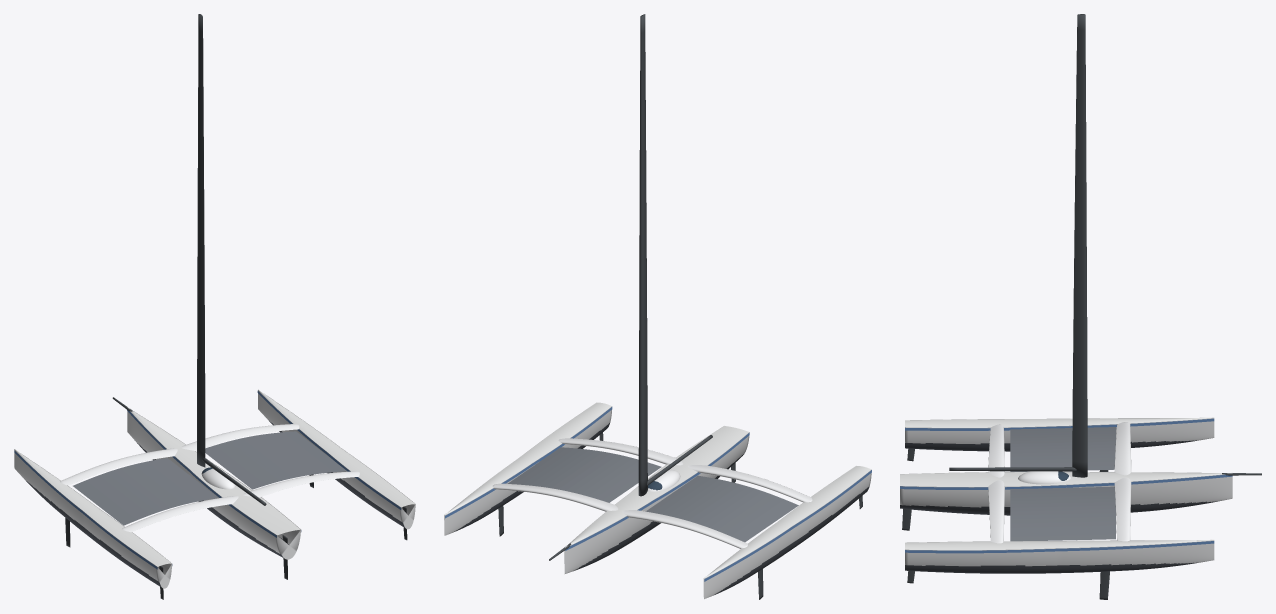
File: primagaz.glb
3 renders of one model, left to right at view 1: azimuth 30°, elevation 25°; view 2: azimuth 150°, elevation 25°; view 3: azimuth 270°, elevation 25°, orthographic. The views are drawn at different scales.
Parts seen in each view (by area): view 1: filet, filet.001, pivot_mat, centrale_pont, flotteur_coque, centrale_coque, flotteur_pont, flotteur_pont.001, bras.001, bras, flotteur_coque.001, flotteur_fond; view 2: filet, filet.001, pivot_mat, centrale_pont, flotteur_coque, centrale_coque, bras, flotteur_pont, flotteur_pont.001, bras.001, flotteur_coque.001, flotteur_fond (+1 smaller); view 3: pivot_mat, filet.001, flotteur_coque.001, centrale_coque, filet, flotteur_coque, centrale_pont, flotteur_pont.001, flotteur_fond.001, flotteur_pont, bras, bras.001 (+7 smaller).
Part boxes in pixels (bbox=[...]): filet: bbox=[73, 458, 218, 525]; filet.001: bbox=[205, 431, 346, 489]; pivot_mat: bbox=[197, 14, 205, 467]; centrale_pont: bbox=[127, 407, 300, 535]; flotteur_coque: bbox=[14, 450, 171, 588]; centrale_coque: bbox=[127, 411, 300, 559]; flotteur_pont: bbox=[14, 449, 171, 566]; flotteur_pont.001: bbox=[258, 389, 414, 507]; bras.001: bbox=[122, 471, 359, 532]; bras: bbox=[60, 424, 299, 485]; flotteur_coque.001: bbox=[258, 390, 415, 529]; flotteur_fond: bbox=[24, 479, 161, 587]; filet: bbox=[646, 475, 798, 542]; filet.001: bbox=[507, 447, 661, 502]; pivot_mat: bbox=[638, 14, 647, 496]; centrale_pont: bbox=[565, 426, 748, 547]; flotteur_coque: bbox=[703, 466, 871, 598]; centrale_coque: bbox=[564, 426, 749, 573]; bras: bbox=[492, 483, 747, 548]; flotteur_pont: bbox=[704, 466, 871, 578]; flotteur_pont.001: bbox=[444, 402, 611, 515]; bras.001: bbox=[558, 438, 812, 502]; flotteur_coque.001: bbox=[444, 402, 611, 535]; flotteur_fond: bbox=[713, 486, 869, 595]; pivot_mat: bbox=[1072, 14, 1087, 477]; filet.001: bbox=[1010, 486, 1115, 541]; flotteur_coque.001: bbox=[905, 540, 1214, 566]; centrale_coque: bbox=[900, 472, 1232, 507]; filet: bbox=[1010, 427, 1115, 471]; flotteur_coque: bbox=[905, 418, 1214, 444]; centrale_pont: bbox=[900, 472, 1232, 486]; flotteur_pont.001: bbox=[905, 539, 1214, 550]; flotteur_fond.001: bbox=[905, 562, 1196, 573]; flotteur_pont: bbox=[905, 417, 1214, 427]; bras: bbox=[1114, 422, 1131, 541]; bras.001: bbox=[988, 424, 1004, 543].
Bounding box in the file's own units: 29.85 × 55.63 × 34.8.
